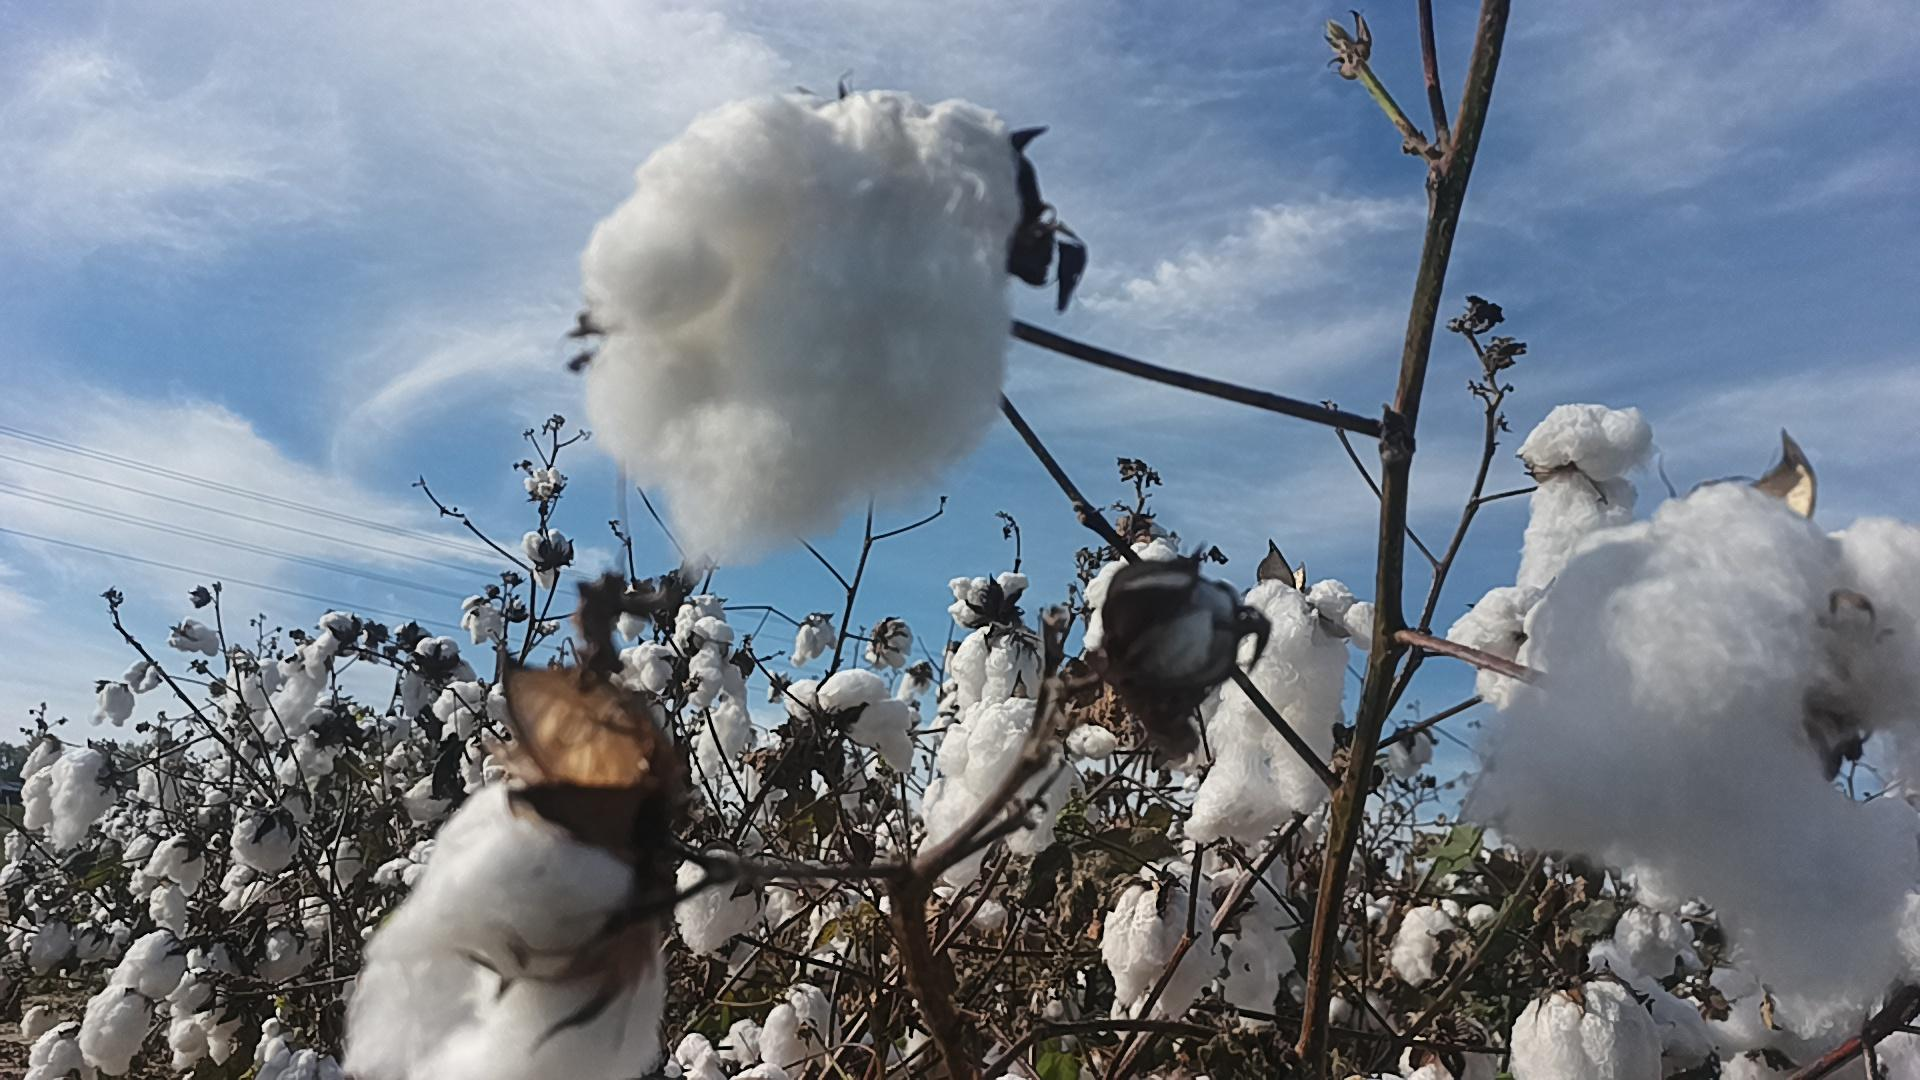cotton_ready: (1484, 485, 1920, 994), (578, 91, 1018, 575), (348, 775, 666, 1080), (1188, 580, 1350, 841), (1506, 942, 1737, 1080), (922, 699, 1081, 882), (1704, 947, 1920, 1080), (1519, 404, 1654, 607), (1085, 539, 1238, 692), (1108, 856, 1221, 1013), (1207, 865, 1302, 1034), (1445, 585, 1552, 703), (787, 673, 915, 769), (674, 841, 767, 959), (949, 621, 1051, 709), (82, 986, 161, 1077), (47, 749, 119, 847), (762, 986, 841, 1065), (1391, 905, 1460, 988), (945, 571, 1034, 625), (115, 930, 183, 997), (231, 808, 302, 873)
